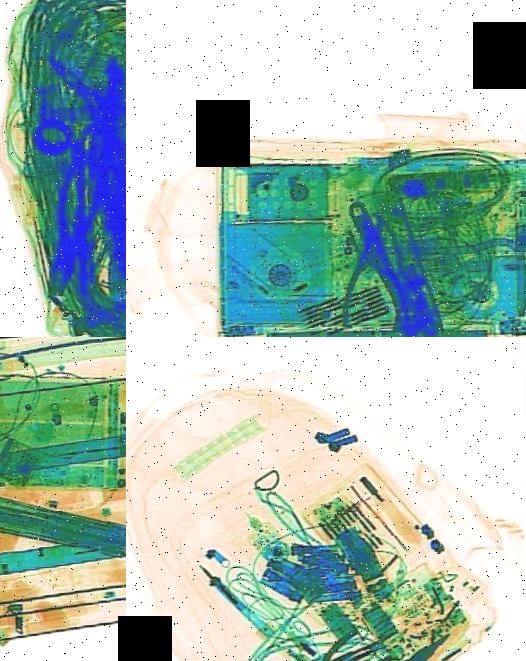Pliers: (28, 146, 119, 304), (335, 207, 411, 336), (260, 611, 398, 661)
Wrench: (335, 186, 451, 337)
